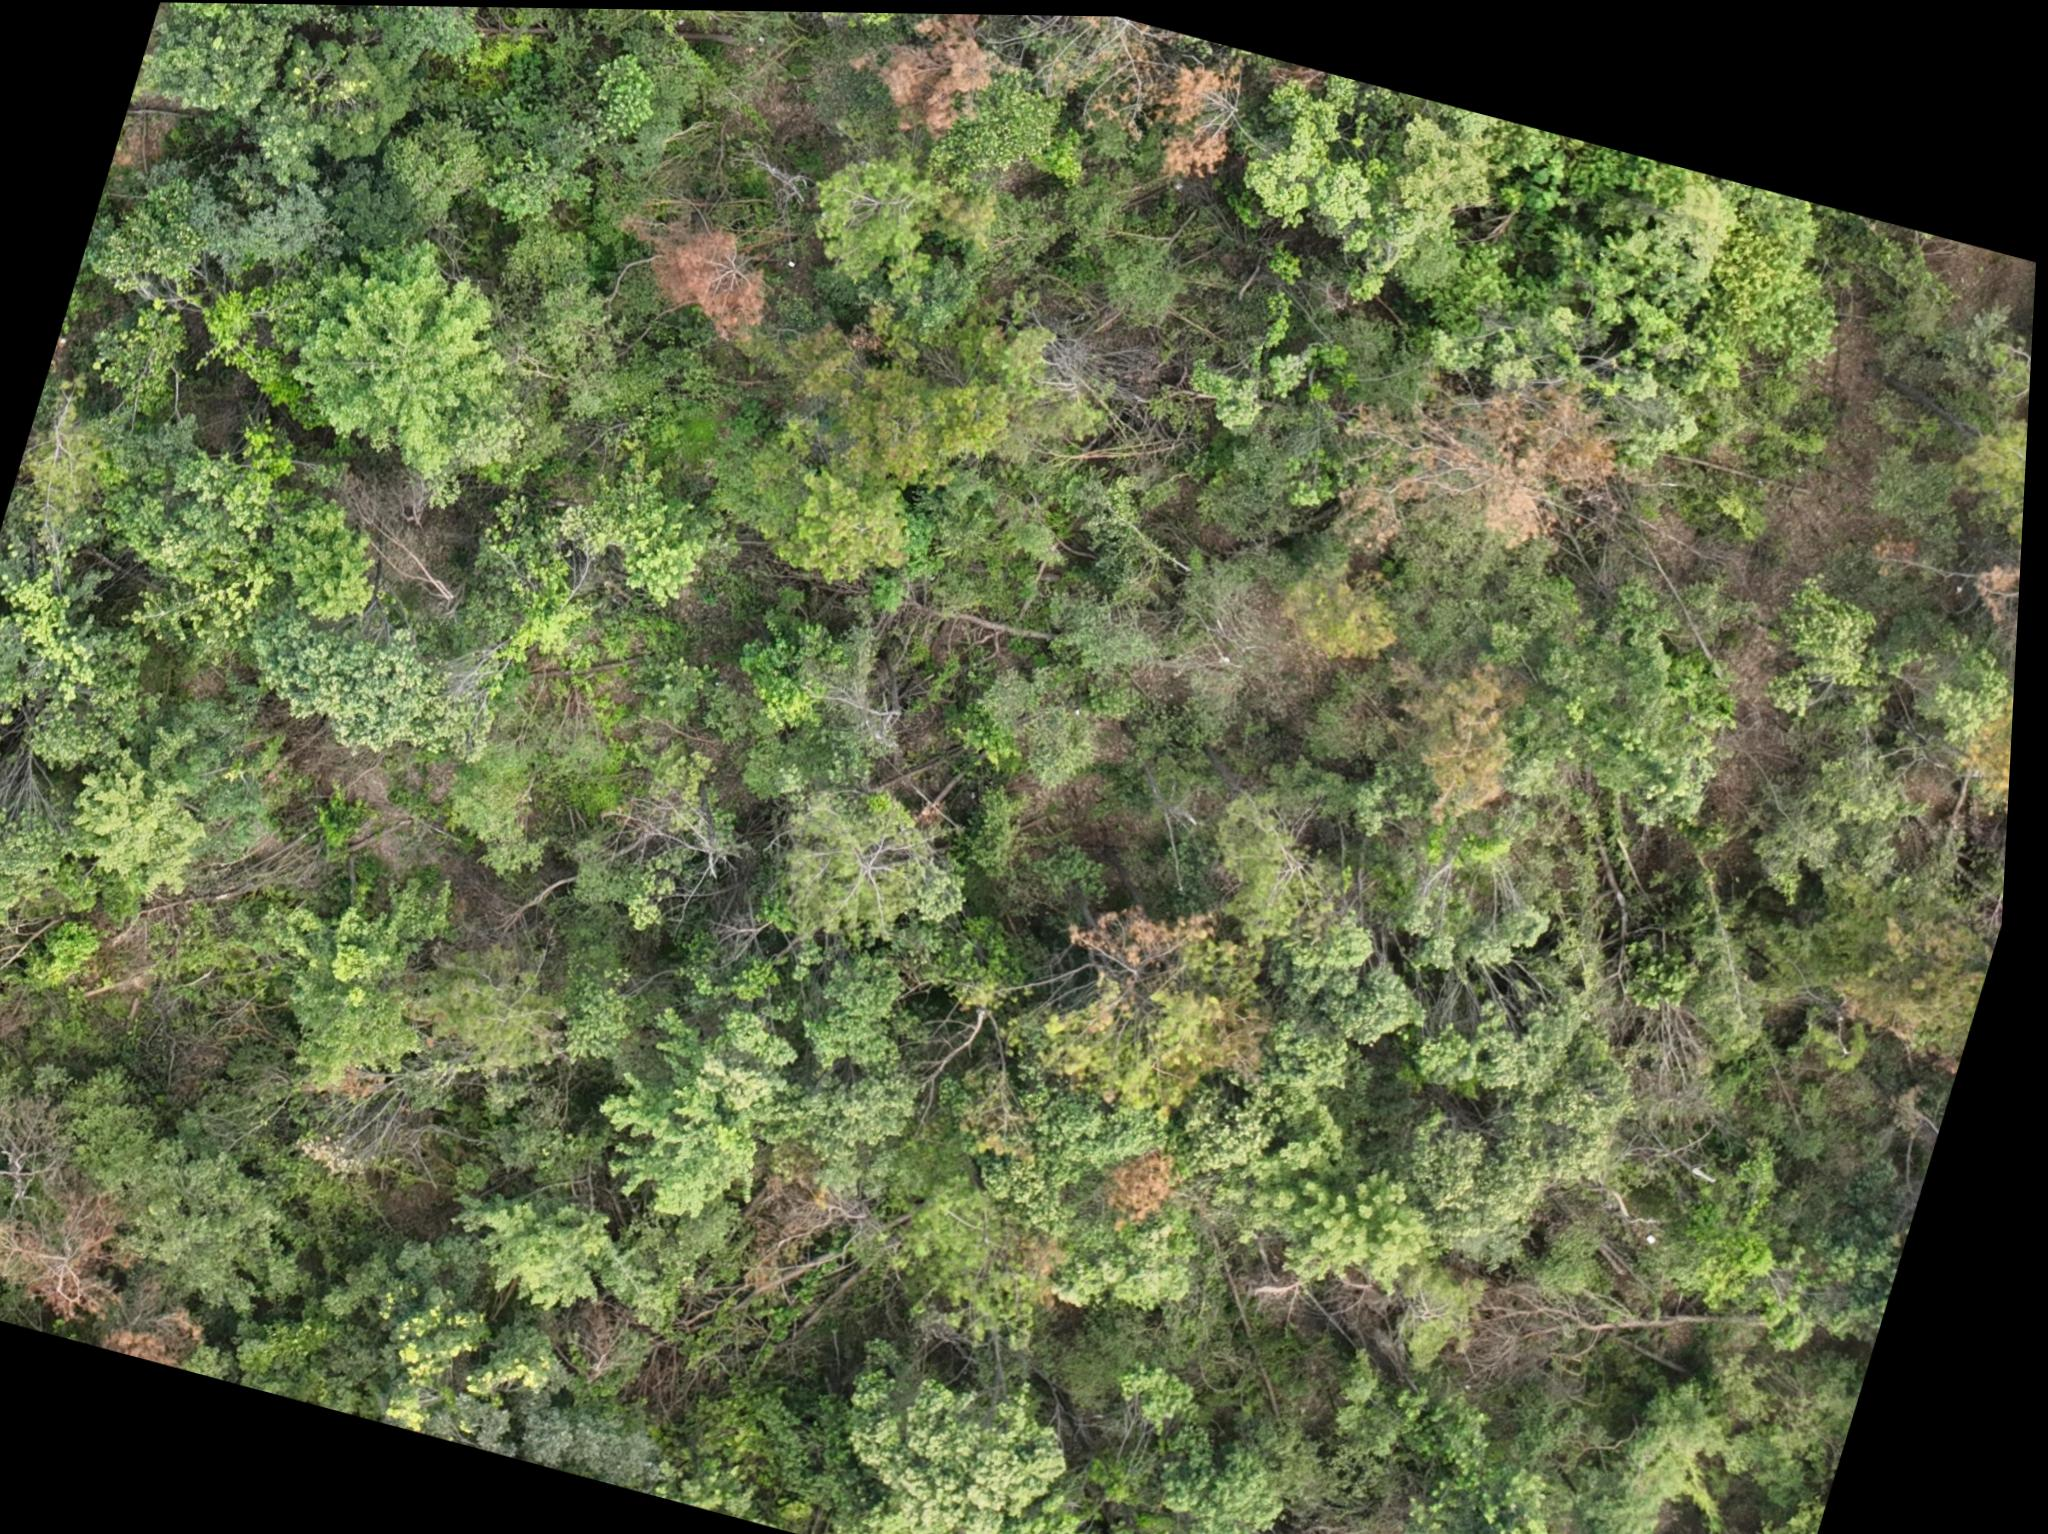heavy: (1333, 337, 1639, 548), (622, 201, 793, 348), (846, 10, 1018, 147), (0, 1178, 150, 1334), (1126, 50, 1263, 200), (1940, 522, 2027, 669), (1115, 1147, 1196, 1226)
